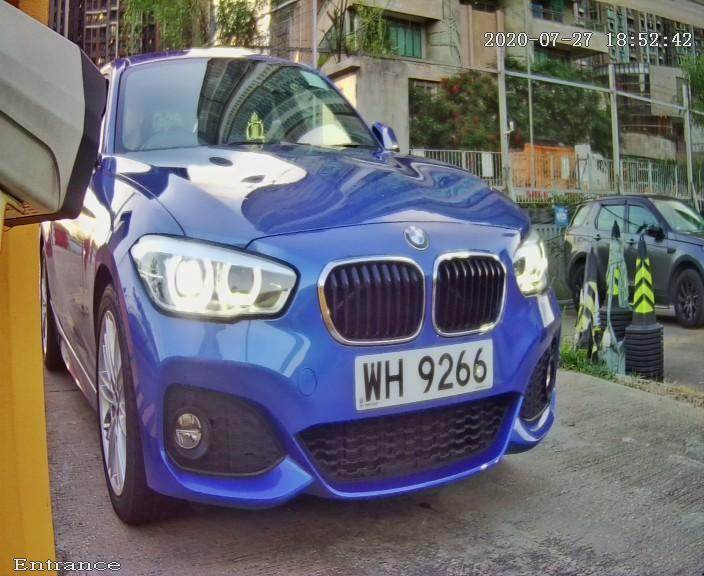privatecar: (51, 31, 607, 530)
